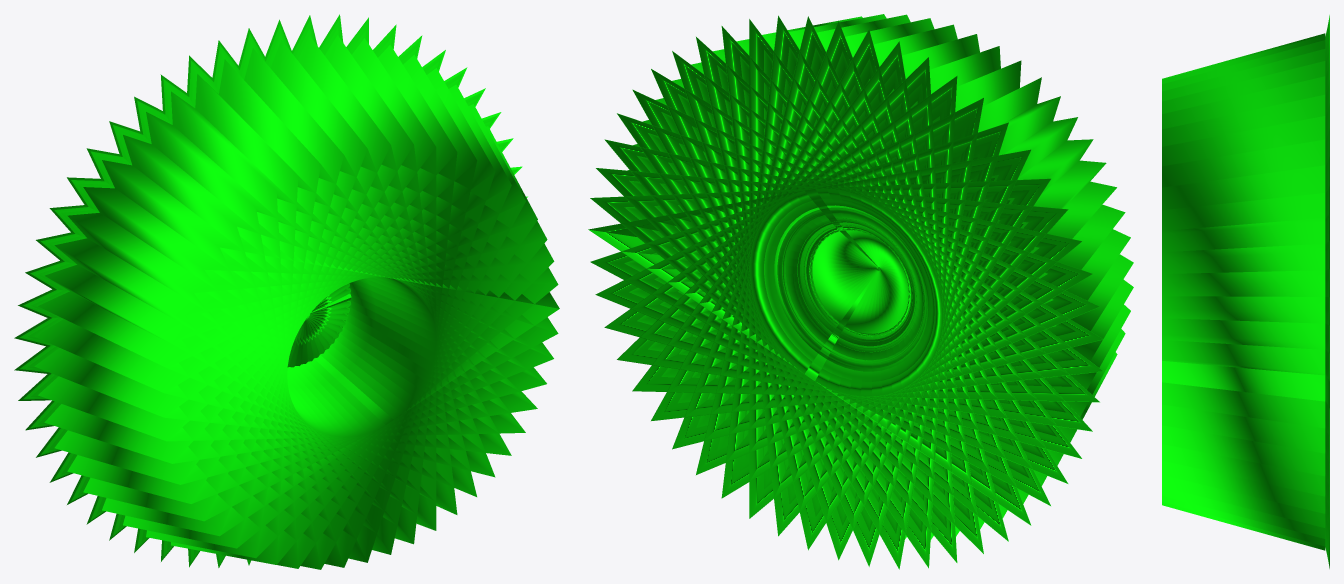
Rendered from ai-adam-optimizer-solid.gltf.
3 renders of one model, left to right at view 1: azimuth 30°, elevation 25°; view 2: azimuth 150°, elevation 25°; view 3: azimuth 270°, elevation 25°, orthographic. The views are drawn at different scales.
Visible parts, largest first — view 1: ai_adam_optimizer_solid; view 2: ai_adam_optimizer_solid; view 3: ai_adam_optimizer_solid.
Part boxes in pixels (box(x1,y1,x2,y2)): ai_adam_optimizer_solid: box(14, 14, 559, 569); ai_adam_optimizer_solid: box(588, 14, 1133, 569); ai_adam_optimizer_solid: box(1162, 15, 1329, 568).
Bounding box in the file's own units: 3.91 × 3.91 × 1.18.
